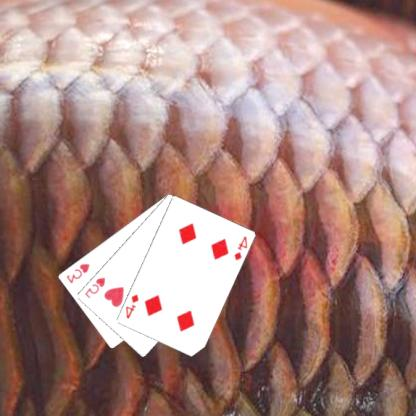3H: (64, 261, 92, 285)
4D: (233, 233, 250, 262), (125, 292, 141, 321)
5H: (83, 275, 108, 300)
